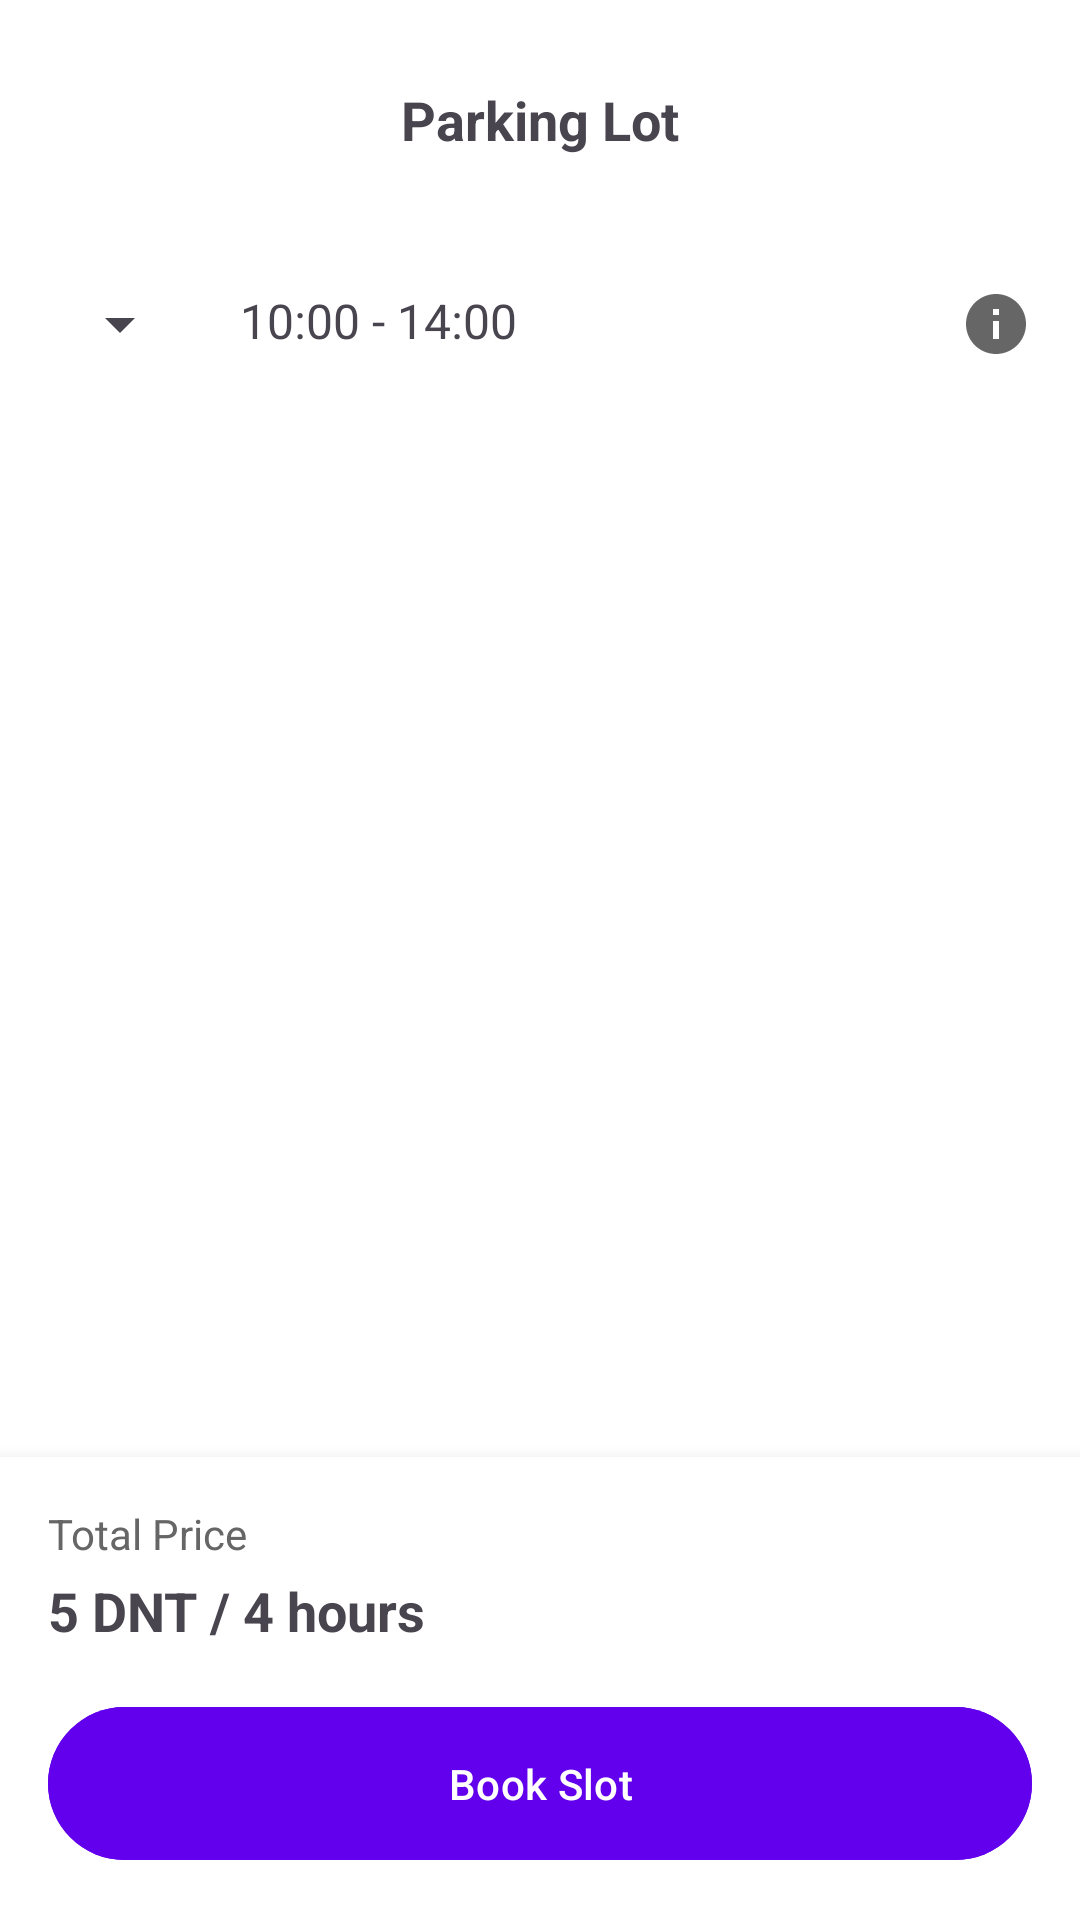

Point at icon controls on the screen. Image size 1080px x 1920px, points as (x,y).
info: (996,324)
